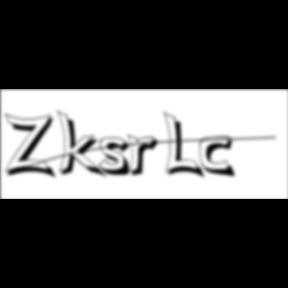L: (164, 110, 208, 182)
Z: (4, 112, 60, 181)
c: (200, 136, 240, 180)
k: (56, 108, 110, 181)
r: (127, 134, 165, 180)
s: (100, 137, 138, 179)
